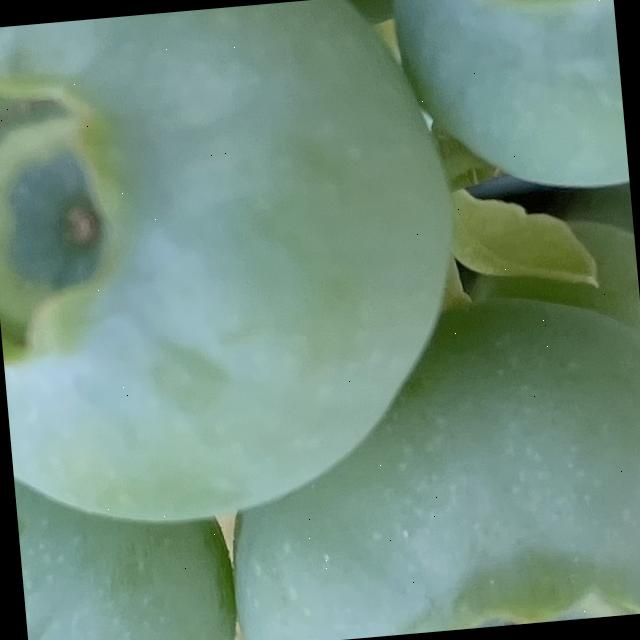Blueberries: (0, 0, 477, 537), (210, 323, 640, 640), (383, 0, 630, 215)
